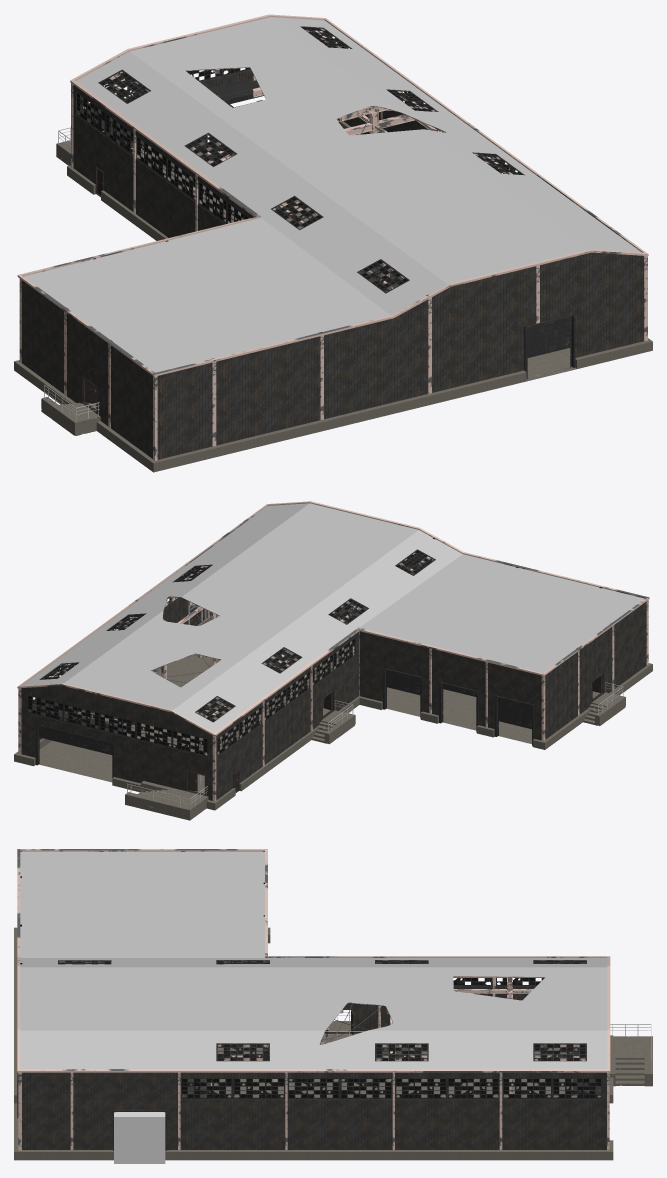
Rendered from warehouseupload2.fbx.
3 renders of one model, top to bottom at view 1: azimuth 30°, elevation 25°; view 2: azimuth 150°, elevation 25°; view 3: azimuth 270°, elevation 25°, orthographic. The views are drawn at different scales.
Parts seen in each view (by area): view 1: Roof, WarehouseWalls, WarehouseBase, Windows, SideSupportBeam, MainSupportBeam, SmallGateVar1.001, ConcreteSteps, Floor, MainGate.001; view 2: Roof, WarehouseWalls, Windows, Floor, ConcreteSteps, WarehouseBase, SideSupportBeam, MainGate.001, SmallGateVar1, MainSupportBeam, SmallGateVar2, Railings (+1 smaller); view 3: Roof, WarehouseWalls, Windows, WarehouseBase, Cube, ConcreteSteps, Floor, SideSupportBeam, MainSupportBeam.
Boxes of the visible parts, left/top/right/bottom form: Roof: left=17, top=14, right=648, bottom=376; WarehouseWalls: left=22, top=32, right=643, bottom=459; WarehouseBase: left=14, top=121, right=652, bottom=472; Windows: left=76, top=26, right=524, bottom=293; SideSupportBeam: left=19, top=83, right=647, bottom=460; MainSupportBeam: left=104, top=28, right=512, bottom=289; SmallGateVar1.001: left=524, top=314, right=575, bottom=379; ConcreteSteps: left=41, top=140, right=174, bottom=435; Floor: left=163, top=142, right=570, bottom=374; MainGate.001: left=205, top=36, right=316, bottom=142; Roof: left=17, top=501, right=649, bottom=736; WarehouseWalls: left=21, top=553, right=646, bottom=800; Windows: left=27, top=549, right=435, bottom=756; Floor: left=39, top=647, right=531, bottom=784; ConcreteSteps: left=125, top=691, right=625, bottom=820; WarehouseBase: left=14, top=618, right=652, bottom=810; SideSupportBeam: left=18, top=538, right=648, bottom=801; MainGate.001: left=35, top=704, right=134, bottom=777; SmallGateVar1: left=494, top=695, right=534, bottom=745; MainSupportBeam: left=51, top=552, right=430, bottom=755; SmallGateVar2: left=382, top=668, right=422, bottom=718; Railings: left=127, top=682, right=623, bottom=809; Roof: left=17, top=849, right=610, bottom=1072; WarehouseWalls: left=22, top=961, right=606, bottom=1149; Windows: left=58, top=960, right=602, bottom=1099; WarehouseBase: left=14, top=927, right=613, bottom=1160; Cube: left=114, top=1112, right=165, bottom=1163; ConcreteSteps: left=321, top=1021, right=652, bottom=1086; Floor: left=214, top=1048, right=600, bottom=1097; SideSupportBeam: left=18, top=851, right=609, bottom=1150; MainSupportBeam: left=59, top=961, right=585, bottom=1097.
Size of the model in its own units: 4187 by 856 by 4757.
